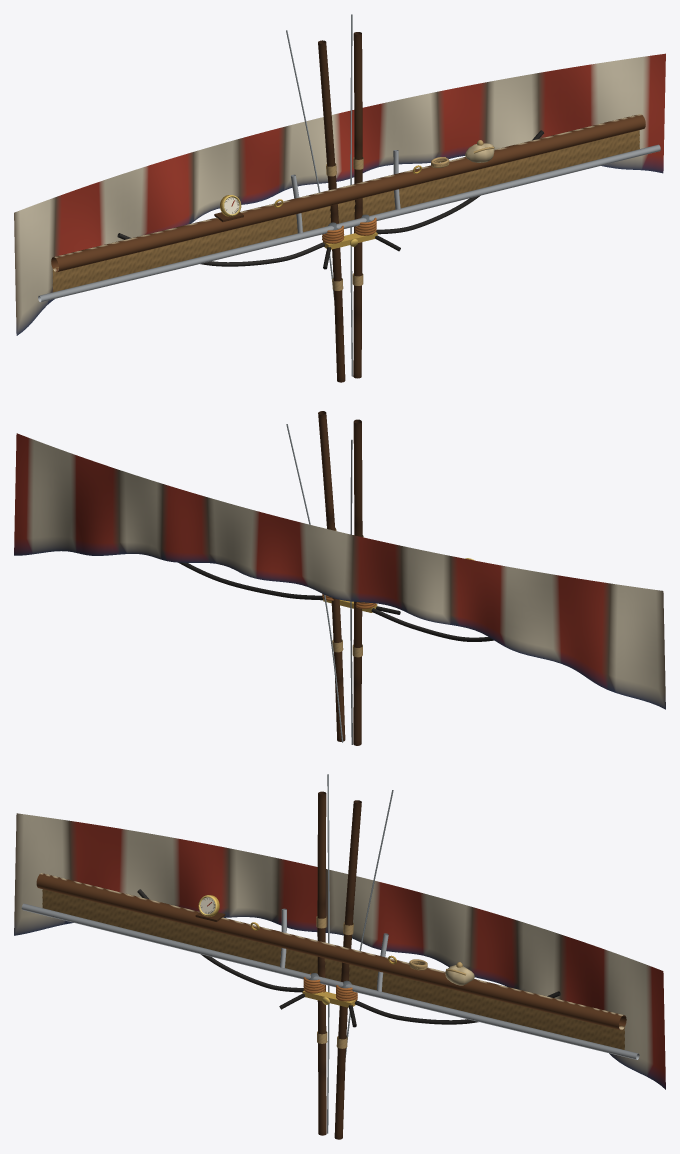
Rendered from canasta.glb.
3 views of the same model, one above another, from view 1: azimuth 30°, elevation 25°; view 2: azimuth 150°, elevation 25°; view 3: azimuth 330°, elevation 25° (orthographic).
Parts seen in each view (by area): view 1: Globo • faldón, Canasta • mimbre y cuero, Quemador • marco y latas, Canasta • poste izquierdo, Canasta • poste derecho, Quemador • mangueras y empuñaduras, Quemador • serpentines; view 2: Globo • faldón, Canasta • poste derecho, Canasta • poste izquierdo, Quemador • mangueras y empuñaduras; view 3: Globo • faldón, Canasta • mimbre y cuero, Quemador • marco y latas, Canasta • poste derecho, Canasta • poste izquierdo, Quemador • mangueras y empuñaduras, Quemador • serpentines.
Boxes of the visible parts, left/top/right/bottom form: Globo • faldón: left=14, top=53, right=665, bottom=335; Canasta • mimbre y cuero: left=51, top=114, right=645, bottom=292; Quemador • marco y latas: left=38, top=144, right=660, bottom=302; Canasta • poste izquierdo: left=350, top=14, right=363, bottom=378; Canasta • poste derecho: left=286, top=30, right=345, bottom=382; Quemador • mangueras y empuñaduras: left=117, top=130, right=543, bottom=269; Quemador • serpentines: left=322, top=217, right=376, bottom=243; Globo • faldón: left=14, top=433, right=665, bottom=709; Canasta • poste derecho: left=350, top=419, right=363, bottom=745; Canasta • poste izquierdo: left=286, top=411, right=345, bottom=742; Quemador • mangueras y empuñaduras: left=178, top=562, right=493, bottom=641; Globo • faldón: left=14, top=813, right=665, bottom=1089; Canasta • mimbre y cuero: left=36, top=873, right=626, bottom=1049; Quemador • marco y latas: left=21, top=903, right=639, bottom=1059; Canasta • poste derecho: left=316, top=774, right=329, bottom=1135; Canasta • poste izquierdo: left=334, top=790, right=393, bottom=1139; Quemador • mangueras y empuñaduras: left=137, top=889, right=560, bottom=1027; Quemador • serpentines: left=303, top=973, right=357, bottom=1001.
Bounding box in the file's own units: 4 × 1.96 × 0.4966.
